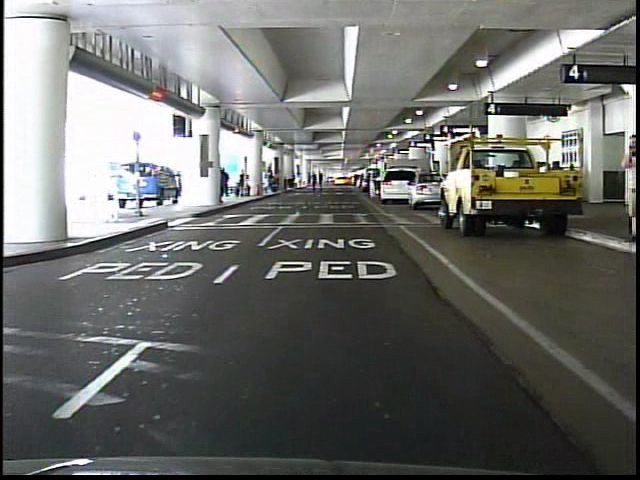person: (628, 133, 637, 240)
